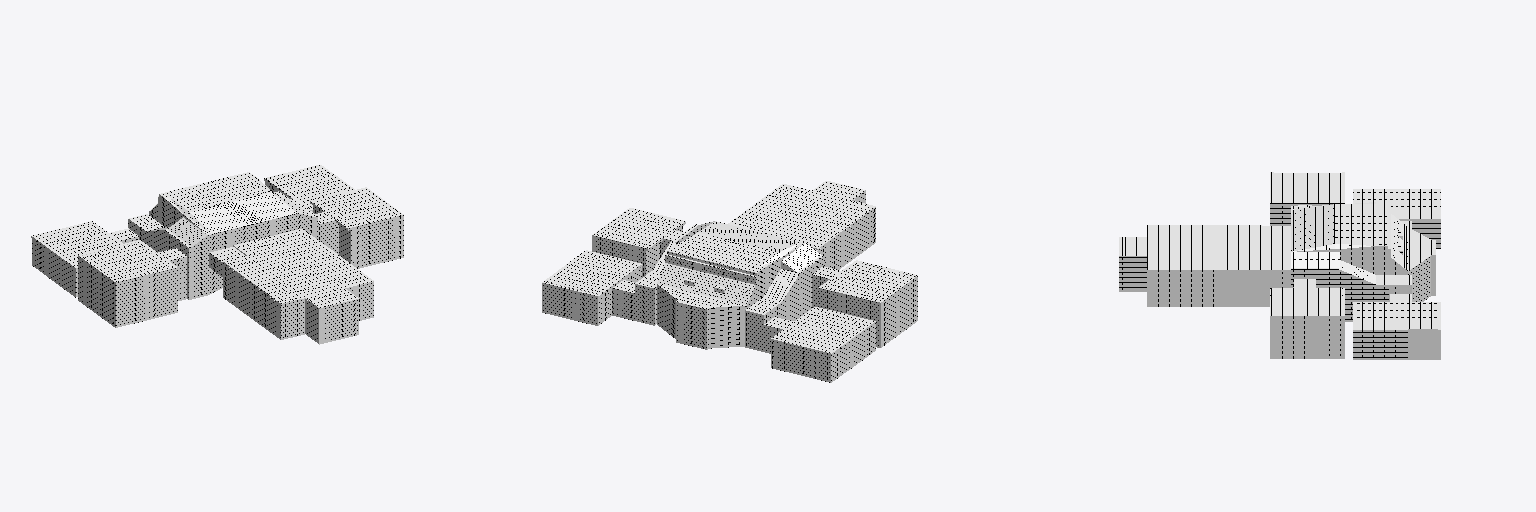
3 renders of one model, left to right at view 1: azimuth 30°, elevation 25°; view 2: azimuth 150°, elevation 25°; view 3: azimuth 270°, elevation 25°, orthographic.
Parts seen in each view (by area): view 1: StationMap; view 2: StationMap; view 3: StationMap.
Part boxes in pixels (bbox=[...]): StationMap: bbox=[31, 165, 403, 344]; StationMap: bbox=[542, 181, 917, 382]; StationMap: bbox=[1119, 172, 1440, 359].
Size of the model in its own units: 60.86 by 13.21 by 58.55.
Materials: 2 (2 with a texture image).